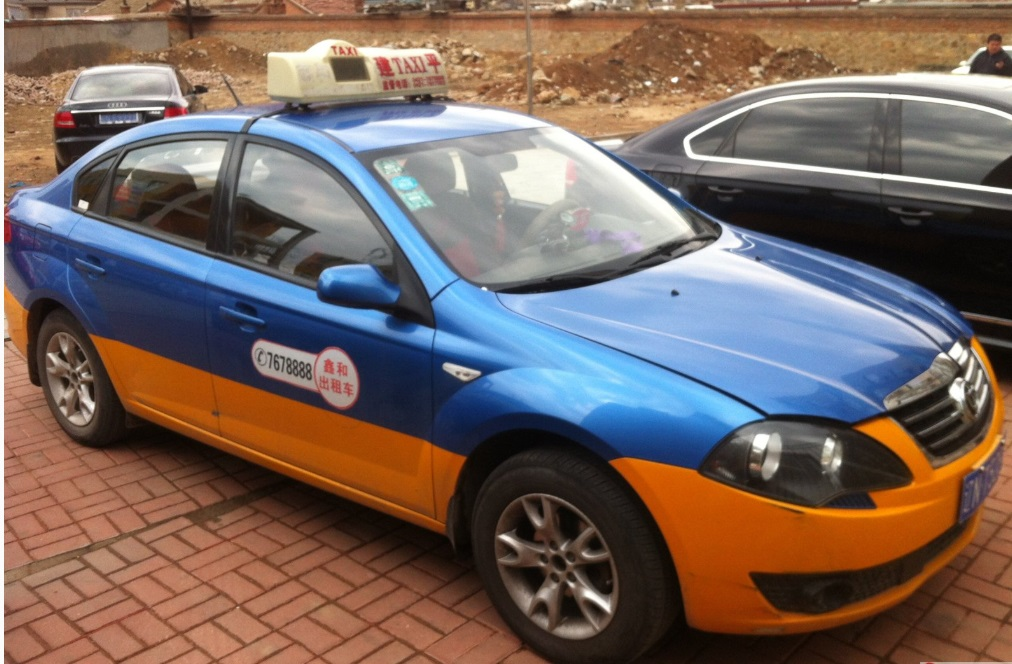taxi: (7, 36, 1002, 664)
